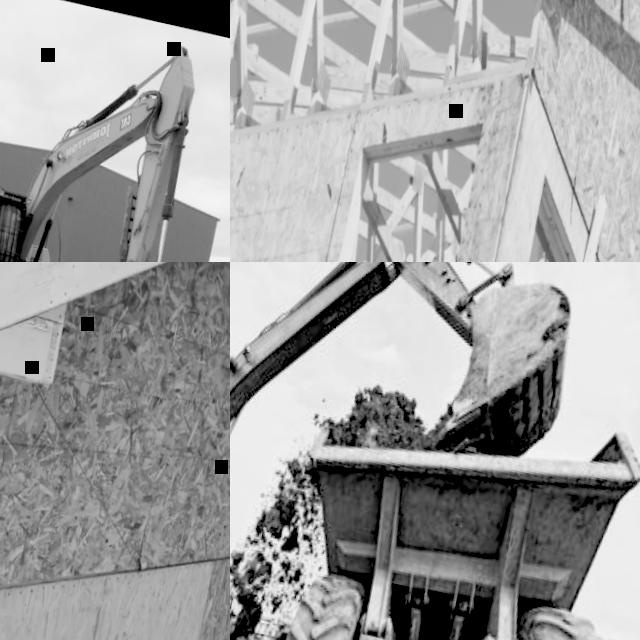machinery: (230, 262, 604, 640), (244, 362, 640, 640), (0, 0, 215, 262)
